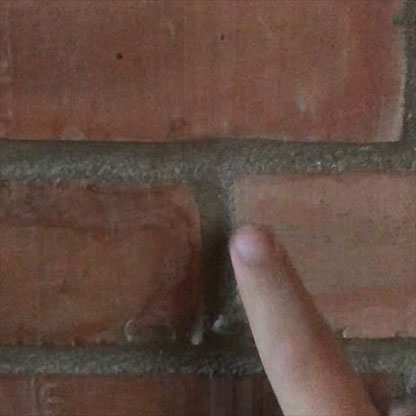fingertip: (218, 215, 292, 280)
